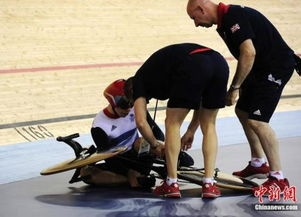falling: (59, 72, 179, 192)
